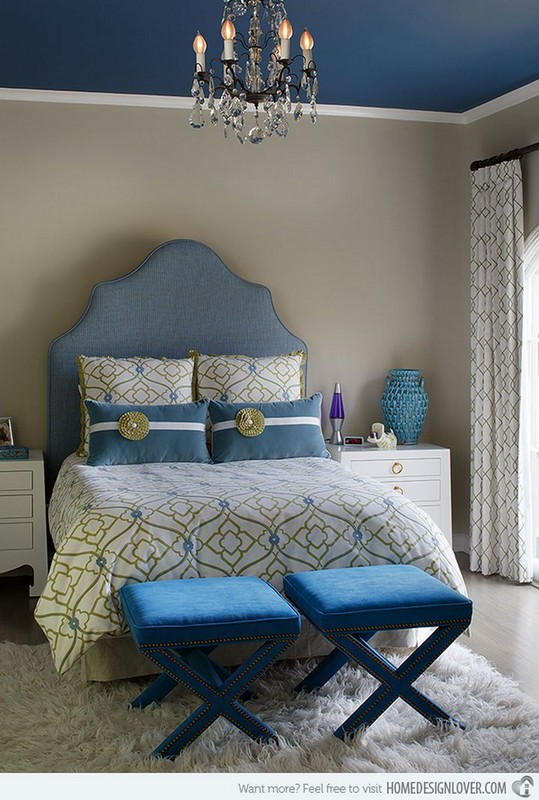bed: (48, 233, 464, 670)
stool: (109, 567, 302, 756), (280, 562, 471, 746), (333, 429, 459, 575)
